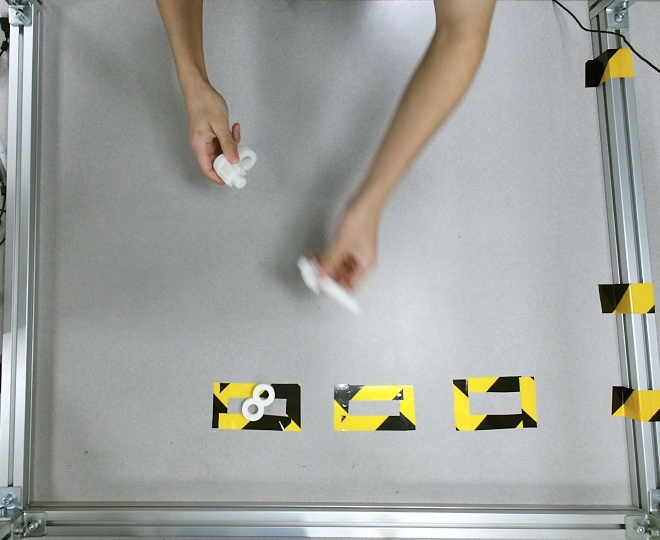stage_2: (213, 147, 255, 188)
